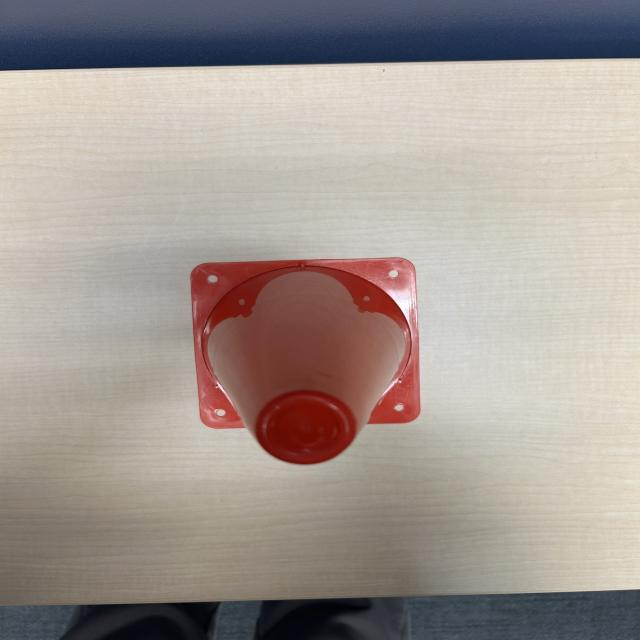orange cone: (177, 253, 436, 473)
